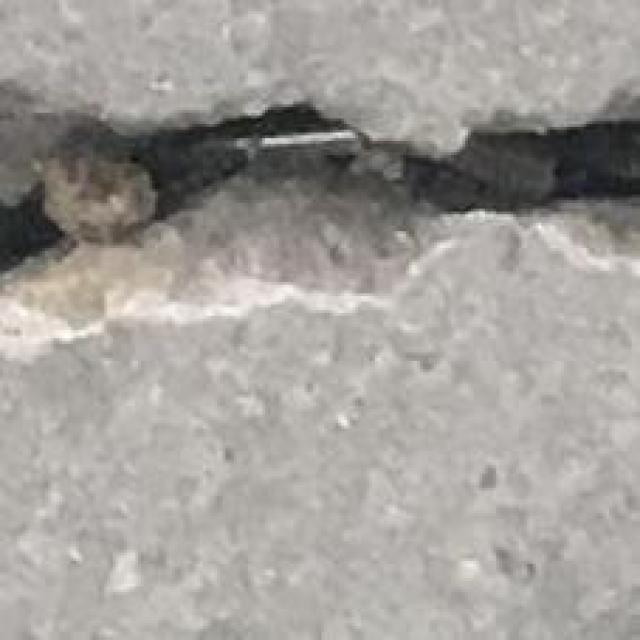Crack: (3, 59, 640, 361)
